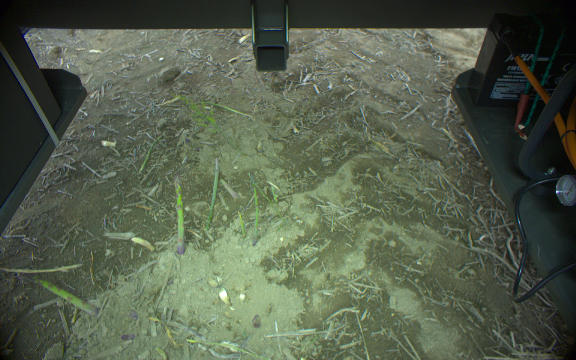aspa: (19, 272, 99, 317), (188, 99, 254, 120), (204, 157, 220, 233), (172, 171, 186, 255), (138, 133, 162, 175), (249, 172, 260, 244), (236, 209, 245, 237)
